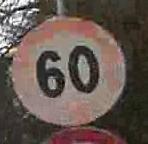limite 60: (7, 11, 129, 128)
